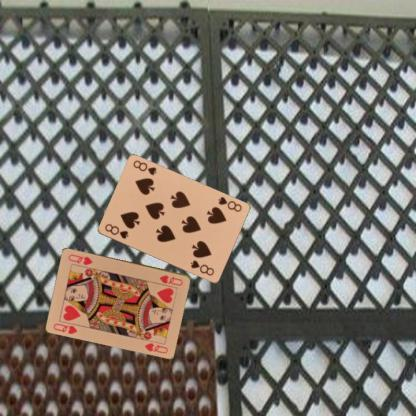8s: (216, 194, 243, 213), (102, 222, 130, 240)
Qh: (51, 320, 78, 336), (157, 272, 184, 287)
